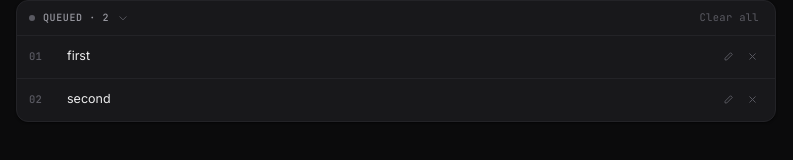
Test: QueuedMessages › row expand/collapse › clicking a different row collapses the first and expands the second
Click the button "01 first": (36, 56) [29,46,763,68]
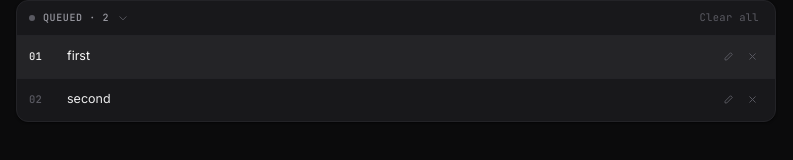
Expected: the button "01 first" is expanded, [17,36,775,78]
Click the button "02 second": (89, 99) [29,89,763,111]
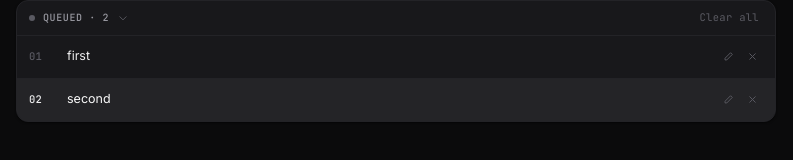
Expected: the button "01 first" is collapsed, [29,46,763,68]
Expected: the button "02 second" is expanded, [17,79,775,121]
